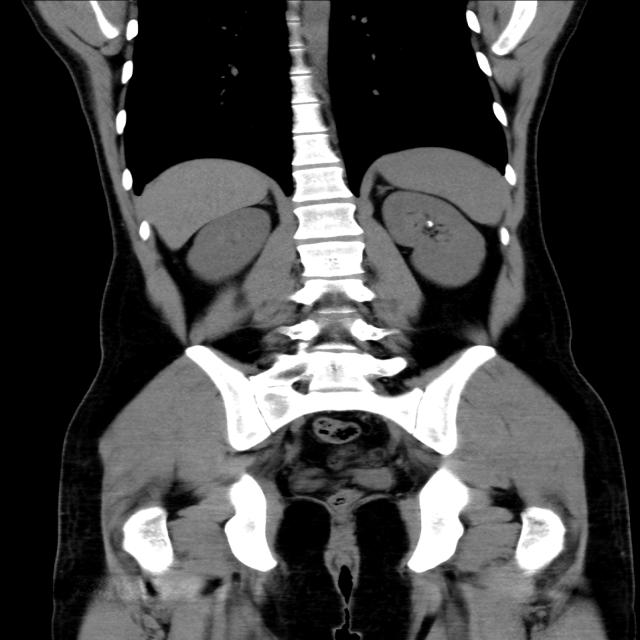kidneystone: (420, 220, 442, 231)
